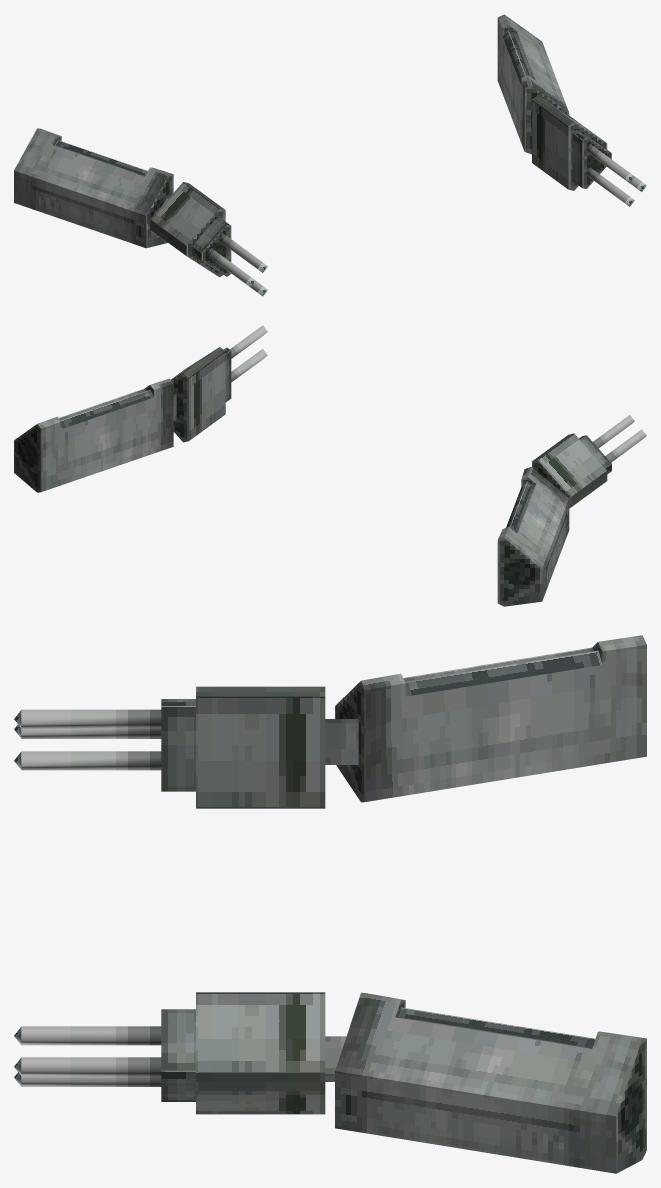
File: kse_firespray_weapon2_s04_l1.fbx
3 renders of one model, top to bottom at view 1: azimuth 30°, elevation 25°; view 2: azimuth 150°, elevation 25°; view 3: azimuth 270°, elevation 25°, orthographic. The views are drawn at different scales.
Parts seen in each view (by area): view 1: mesh_node; view 2: mesh_node; view 3: mesh_node.
Part boxes in pixels (x1,y1,x2,y2): mesh_node: (14,14,646,296); mesh_node: (14,325,646,606); mesh_node: (14,635,646,1173).
Size of the model in its own units: 5.74 by 0.732 by 3.37.
1 material, 1 textured.
